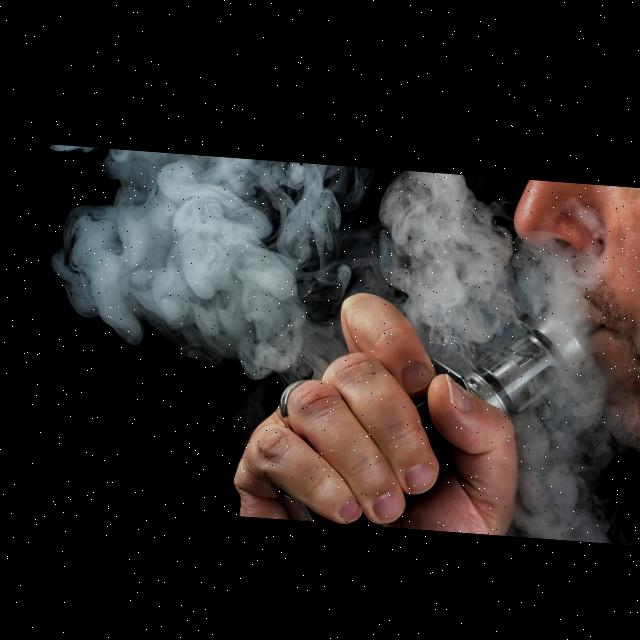vape: (262, 285, 606, 534)
